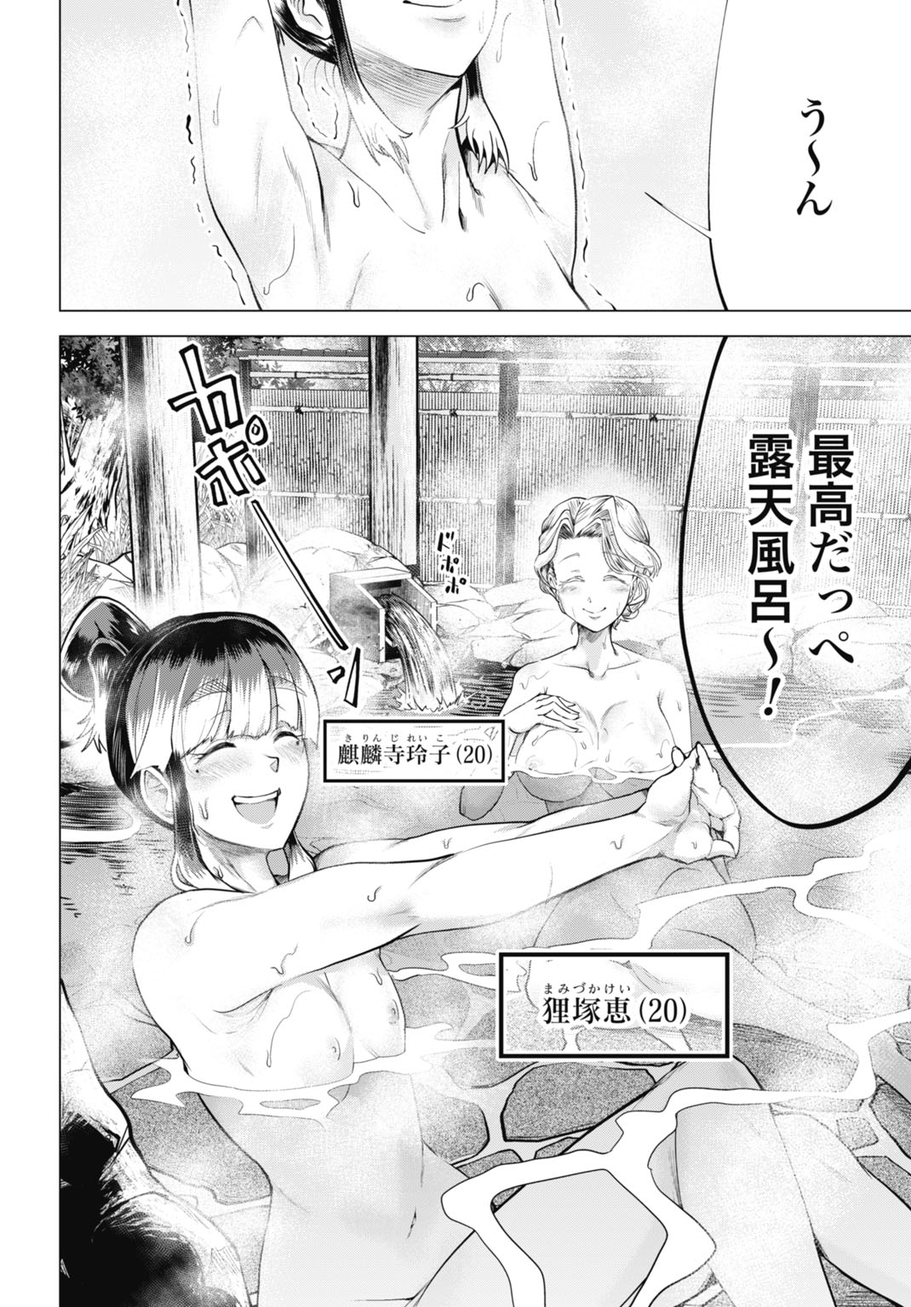bubbles: (673, 337, 911, 846), (702, 1, 911, 311), (492, 945, 736, 1066), (318, 713, 513, 789)
